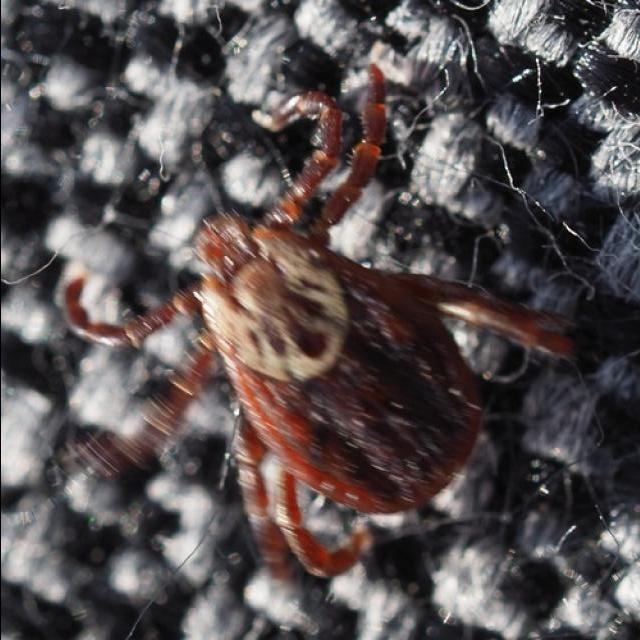Dermacentor Reticulatus-F: (63, 67, 574, 579)
